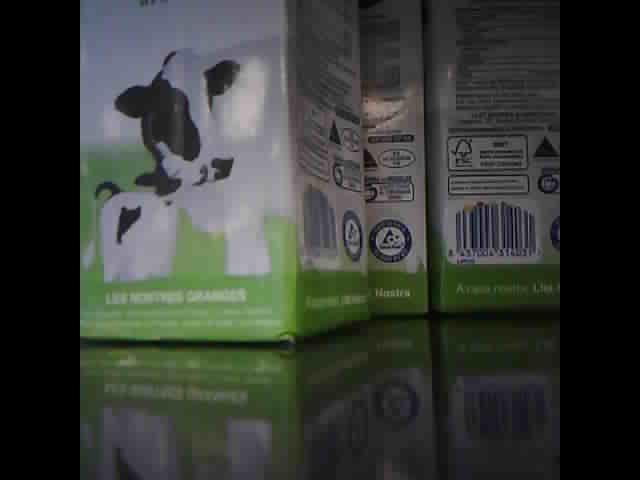leche: (82, 3, 367, 343), (432, 4, 558, 315), (362, 3, 425, 319)
